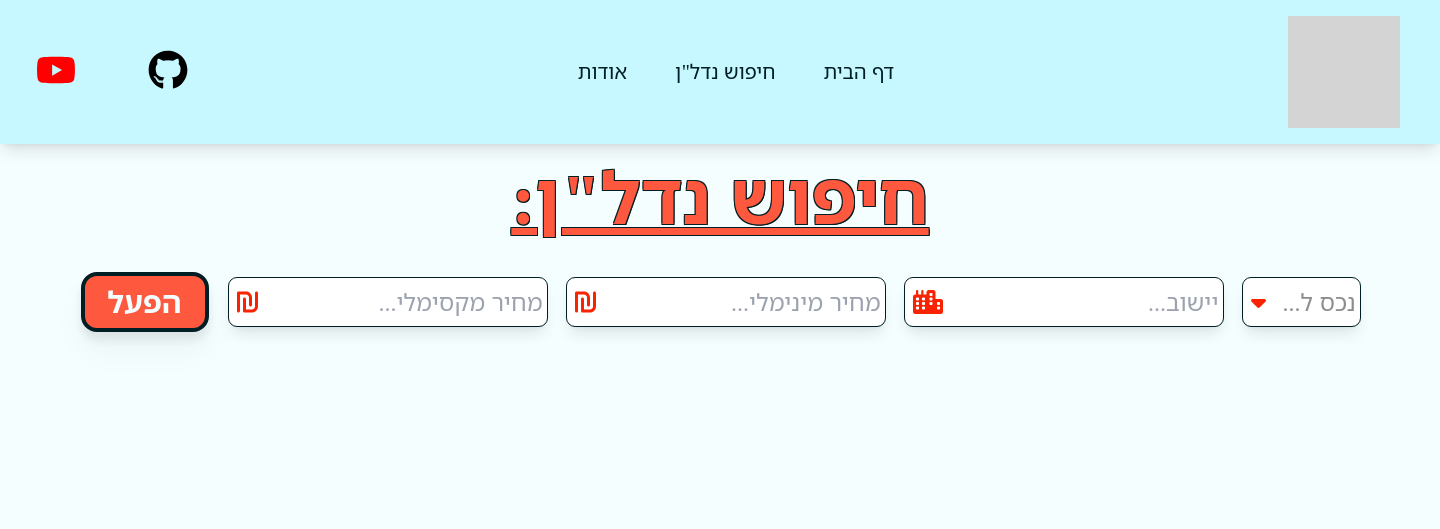
it: Search Page › search form › settlement search field › allows the user to select a settlement name from the menu for autocomplete
Type "חול" into the field with test id "feature-search-form-settlement-search-field-input" at (1064,302), box [905, 278, 1223, 326]
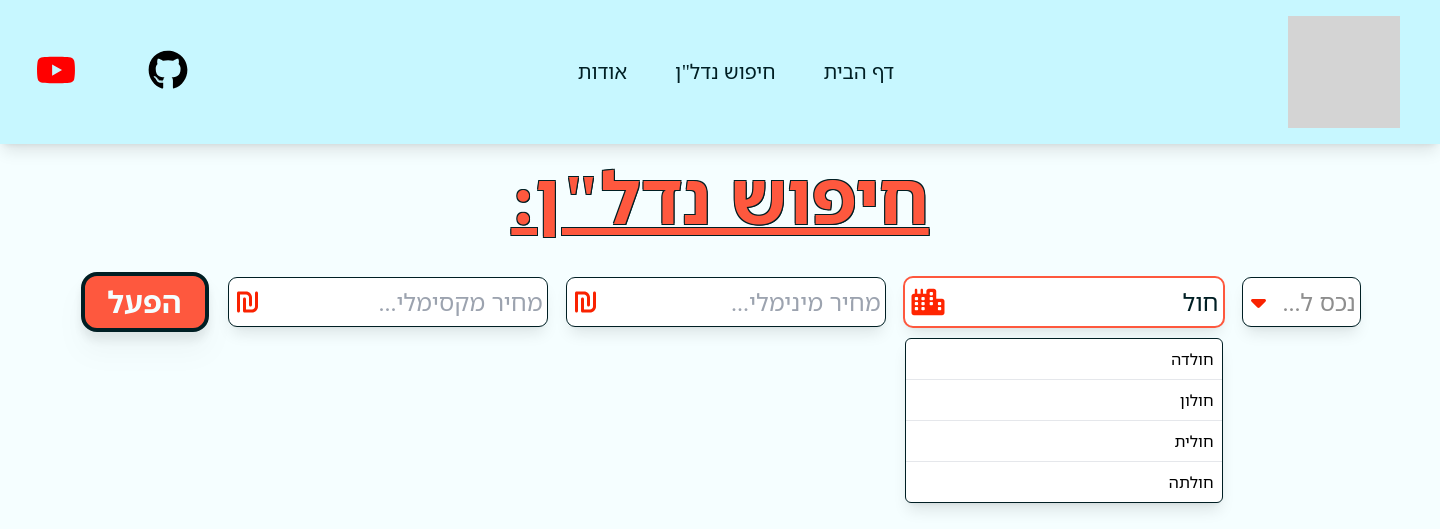
Check: the element with test id "feature-search-form-settlement-search-field-menu" is shown, box [905, 338, 1223, 503]
Check: the number of buttons with test id "feature-search-form-settlement-search-field-menu-item" is at most 5
Click the button with test id "feature-search-form-settlement-search-field-menu-item" showing "חולדה" at (1192,359), box [906, 339, 1222, 379]
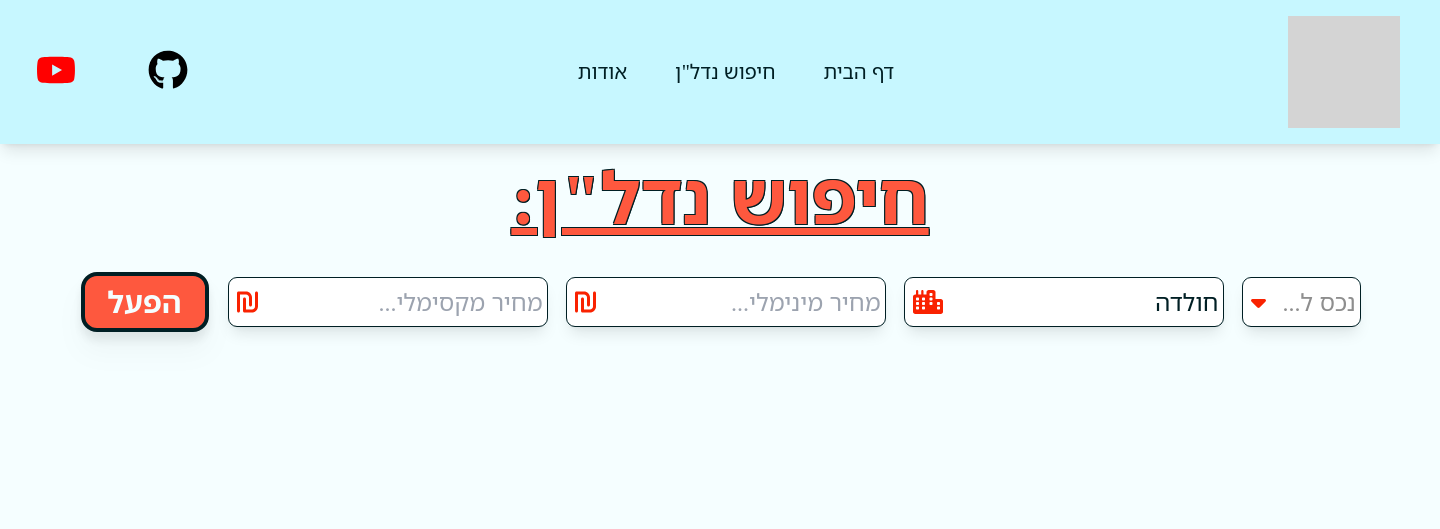
Check: the element with test id "feature-search-form-settlement-search-field-menu" is gone
